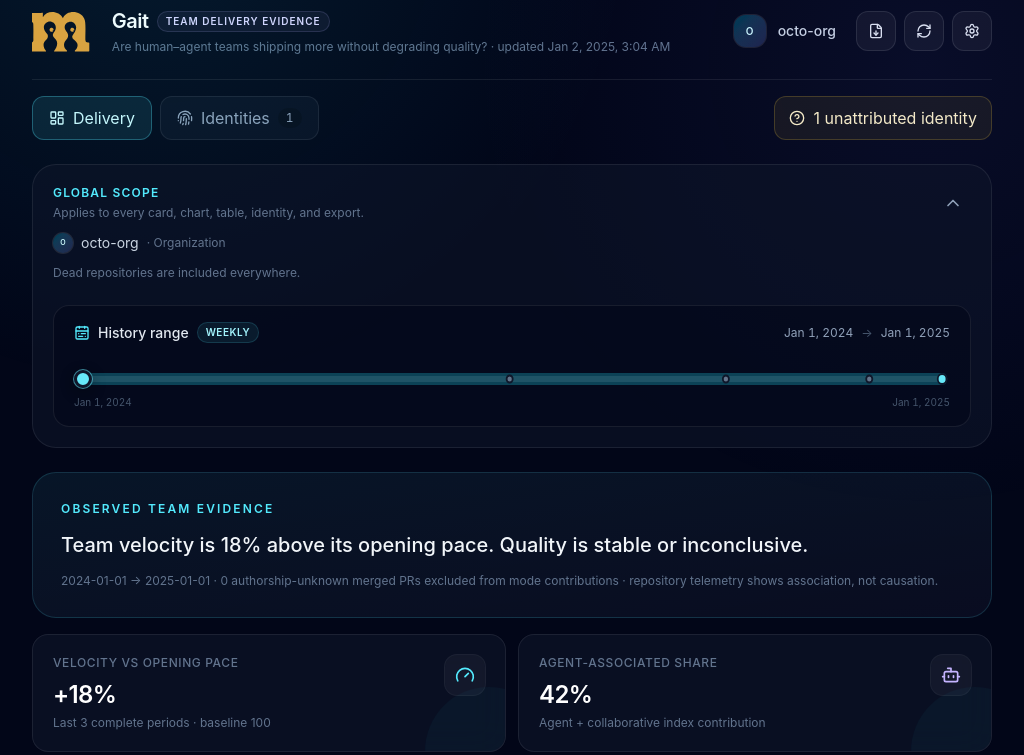
Test case: App delivery rehaul › keeps global scope above the scoped identity view
This screenshot has width=1024, height=755.
Click the button "1 unattributed identity".
click(883, 118)  # box [774,96,992,140]
(page scrolled)
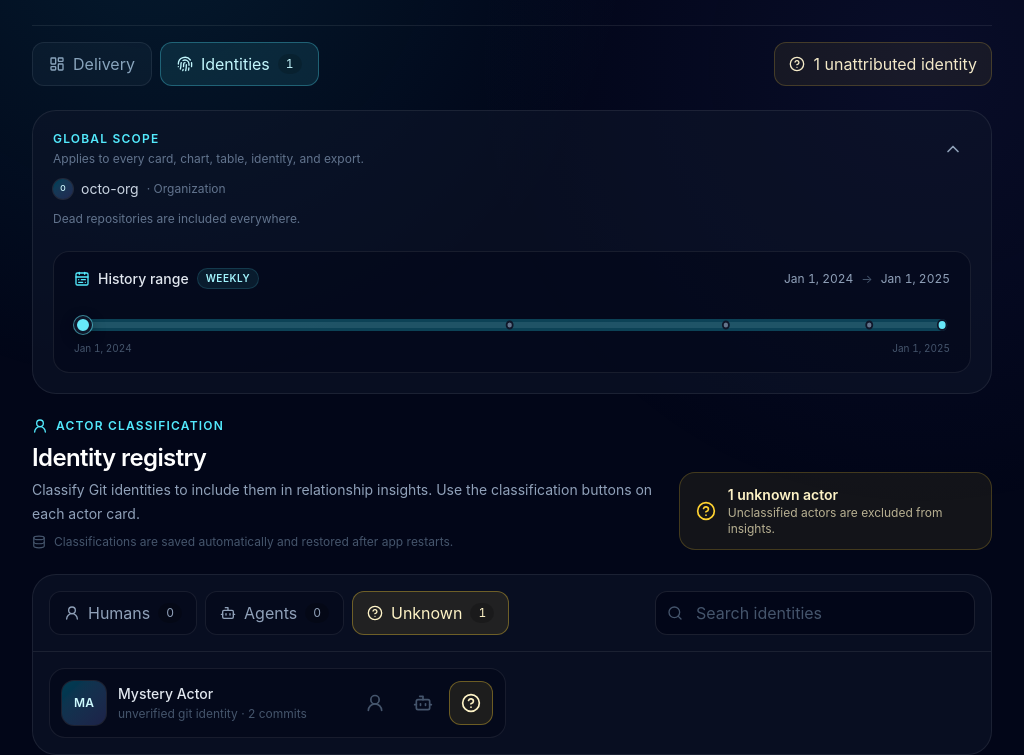
Expected: the element labelled "Global scope" is shown, [32,110,992,394]
Expected: the heading "Identity registry" is shown, [32,443,206,472]
Expected: the text "Mystery Actor" is shown, [118,685,213,702]
